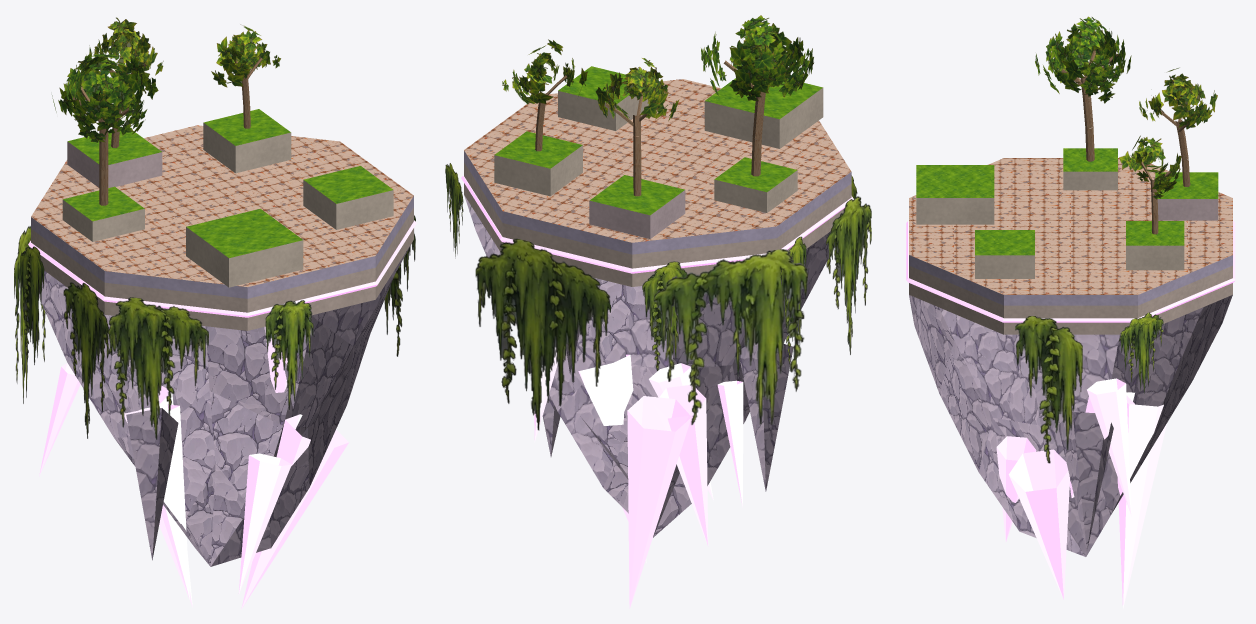
Rendered from SKY_ISLAND_06.glb.
The picture shows the model from 3 angles, left to right: view 1: azimuth 30°, elevation 25°; view 2: azimuth 150°, elevation 25°; view 3: azimuth 270°, elevation 25°; orthographic projection. The views are drawn at different scales.
Parts seen in each view (by area): view 1: S_SouthSmall02_Skin.001, S_SouthSmall02_Moss.001, S_SouthSmall02_Crystals.001, S_SouthSmall02_Trees.001; view 2: S_SouthSmall02_Skin.001, S_SouthSmall02_Moss.001, S_SouthSmall02_Crystals.001, S_SouthSmall02_Trees.001; view 3: S_SouthSmall02_Skin.001, S_SouthSmall02_Crystals.001, S_SouthSmall02_Trees.001, S_SouthSmall02_Moss.001.
Part boxes in pixels (x1,y1,x2,y2): S_SouthSmall02_Skin.001: (28,109,416,566); S_SouthSmall02_Moss.001: (14,215,415,439); S_SouthSmall02_Crystals.001: (39,326,348,608); S_SouthSmall02_Trees.001: (52,17,280,205); S_SouthSmall02_Skin.001: (461,66,853,537); S_SouthSmall02_Moss.001: (445,163,871,430); S_SouthSmall02_Crystals.001: (534,347,743,608); S_SouthSmall02_Trees.001: (502,15,813,196); S_SouthSmall02_Skin.001: (906,148,1235,556); S_SouthSmall02_Crystals.001: (996,378,1166,608); S_SouthSmall02_Trees.001: (1035,16,1217,234); S_SouthSmall02_Moss.001: (1015,312,1163,463).
Size of the model in its own units: 12.97 by 20.47 by 11.68.
Materials: 9 (7 with a texture image).
